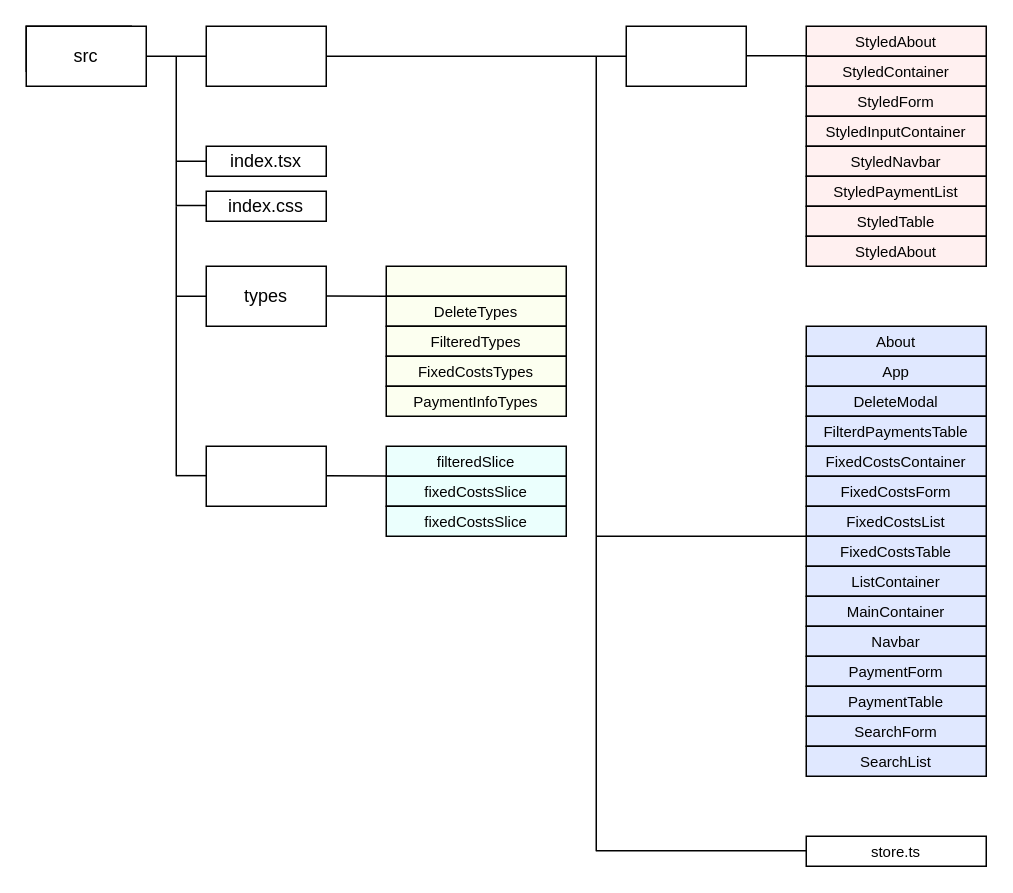
Some shapes in this 1013 by 893 pixel diagram are drawn without their labels. Here are the shapes that lost their labels. From the top down, the centre of each, then its label:
the point at 265,55: components
the point at 685,55: styles
the point at 475,280: DeleteFixedCost
the point at 265,475: reducers
